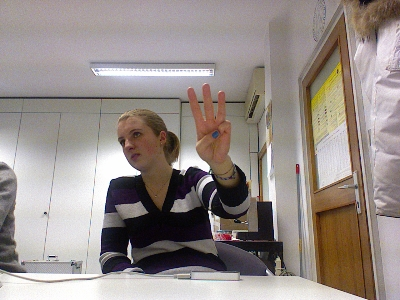三分: (185, 82, 231, 164)
